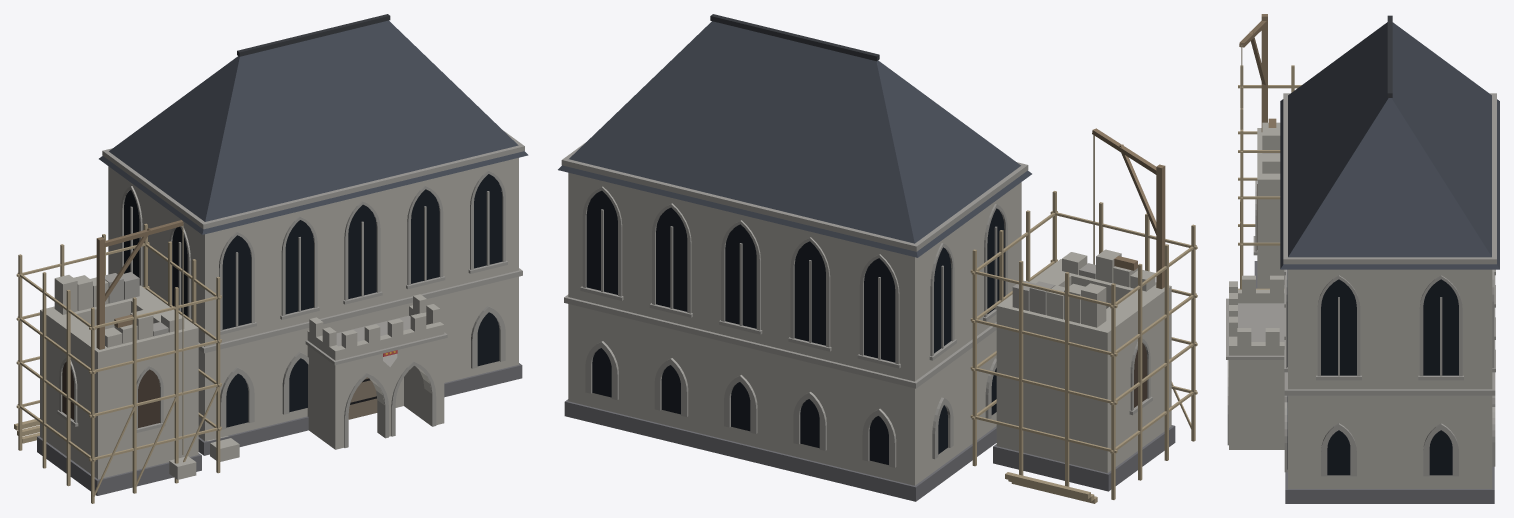
File: koelner_rathaus.glb
3 views of the same model, side by side, from view 1: azimuth 30°, elevation 25°; view 2: azimuth 150°, elevation 25°; view 3: azimuth 270°, elevation 25° (orthographic). The views are drawn at different scales.
Parts seen in each view (by area): view 1: Haus, Baustelle; view 2: Haus, Baustelle; view 3: Haus, Baustelle.
Part boxes in pixels (bbox=[...]): Haus: bbox=[37, 14, 528, 495]; Baustelle: bbox=[14, 220, 239, 503]; Haus: bbox=[558, 14, 1175, 501]; Baustelle: bbox=[970, 128, 1197, 503]; Haus: bbox=[1226, 15, 1499, 503]; Baustelle: bbox=[1238, 14, 1301, 289].
Bounding box in the file's own units: 21.85 × 15.87 × 10.72.
